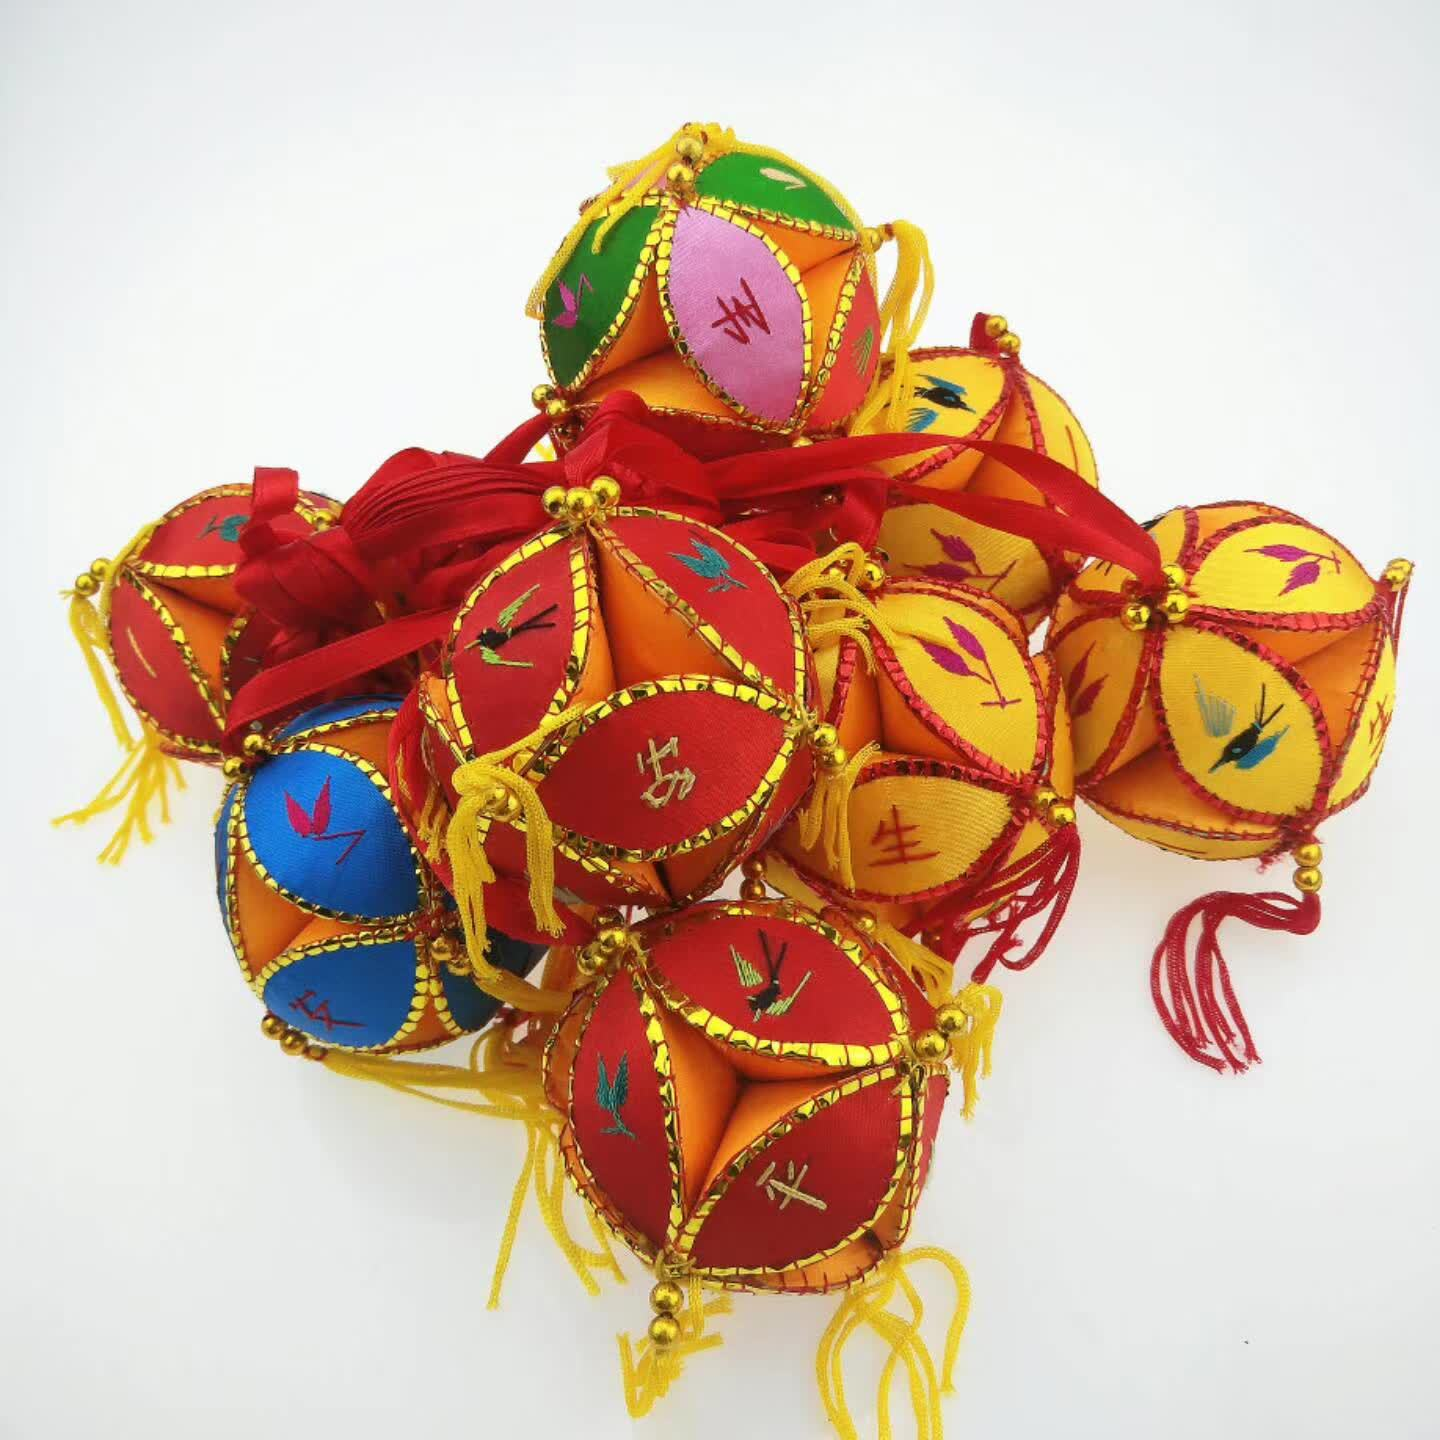xiuqiu: (419, 509, 815, 910), (550, 909, 948, 1298)
